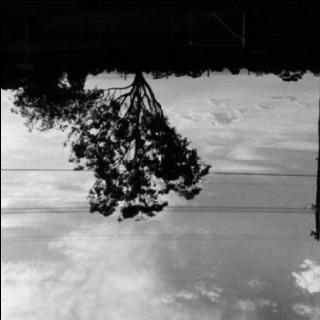Cirrostratus: (0, 85, 320, 320)
